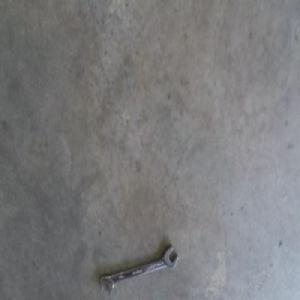Wrench: (100, 245, 177, 294)
